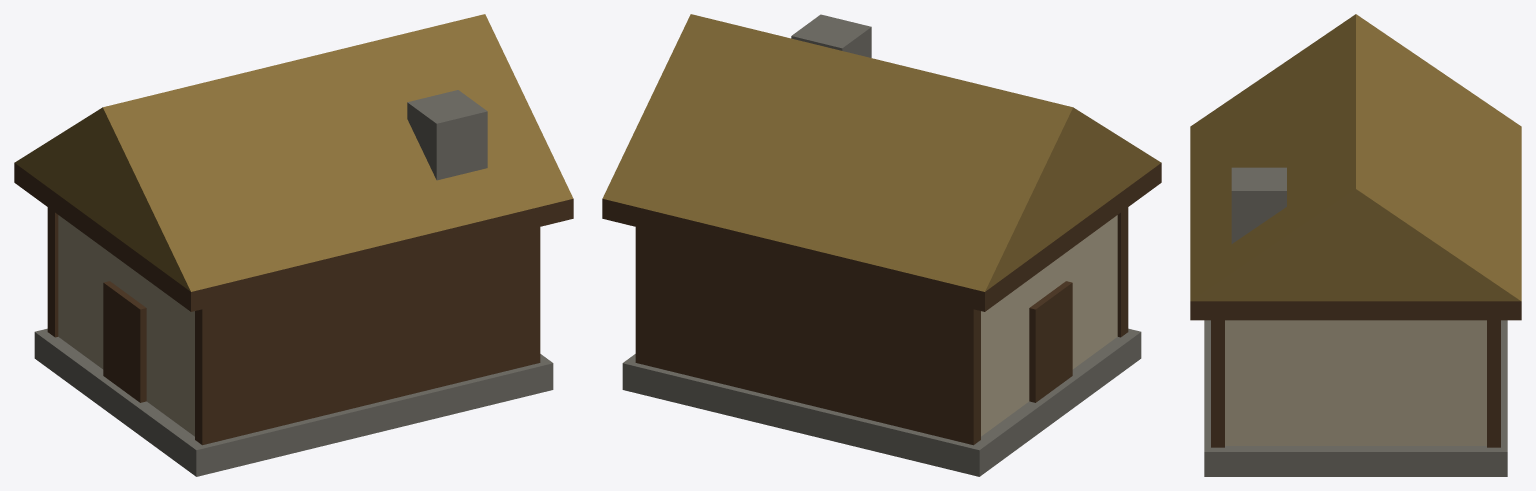
The model's file is cottage_a.glb.
3 renders of one model, left to right at view 1: azimuth 30°, elevation 25°; view 2: azimuth 150°, elevation 25°; view 3: azimuth 270°, elevation 25°, orthographic. The views are drawn at different scales.
Visible parts, largest first — view 1: Cube.005, Cube.002, Cube, Cube.001, Cube.004, Cube.006, Cube.007, Cube.003; view 2: Cube.005, Cube.003, Cube, Cube.001, Cube.004, Cube.007, Cube.006, Cube.002; view 3: Cube.005, Cube.001, Cube, Cube.004, Cube.006, Cube.002, Cube.003.
Part boxes in pixels (left/top/right/bottom): Cube.005: left=14, top=14, right=573, bottom=291; Cube.002: left=195, top=227, right=540, bottom=445; Cube: left=34, top=328, right=553, bottom=476; Cube.001: left=58, top=215, right=194, bottom=436; Cube.004: left=14, top=163, right=573, bottom=311; Cube.006: left=407, top=90, right=487, bottom=180; Cube.007: left=103, top=281, right=146, bottom=402; Cube.003: left=47, top=207, right=58, bottom=337; Cube.005: left=602, top=14, right=1161, bottom=291; Cube.003: left=635, top=227, right=980, bottom=445; Cube: left=622, top=328, right=1141, bottom=476; Cube.001: left=981, top=215, right=1117, bottom=436; Cube.004: left=602, top=163, right=1161, bottom=311; Cube.007: left=1029, top=281, right=1072, bottom=402; Cube.006: left=791, top=14, right=871, bottom=57; Cube.002: left=1117, top=207, right=1128, bottom=337; Cube.005: left=1190, top=14, right=1521, bottom=301; Cube.001: left=1225, top=320, right=1486, bottom=445; Cube: left=1204, top=320, right=1507, bottom=476; Cube.004: left=1190, top=301, right=1521, bottom=320; Cube.006: left=1231, top=167, right=1286, bottom=243; Cube.002: left=1211, top=320, right=1224, bottom=447; Cube.003: left=1487, top=320, right=1500, bottom=447.
Bounding box in the file's own units: 60 × 47 × 48.
